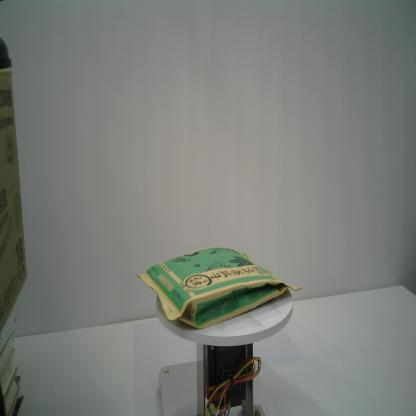Dried Food: (135, 245, 304, 330)
